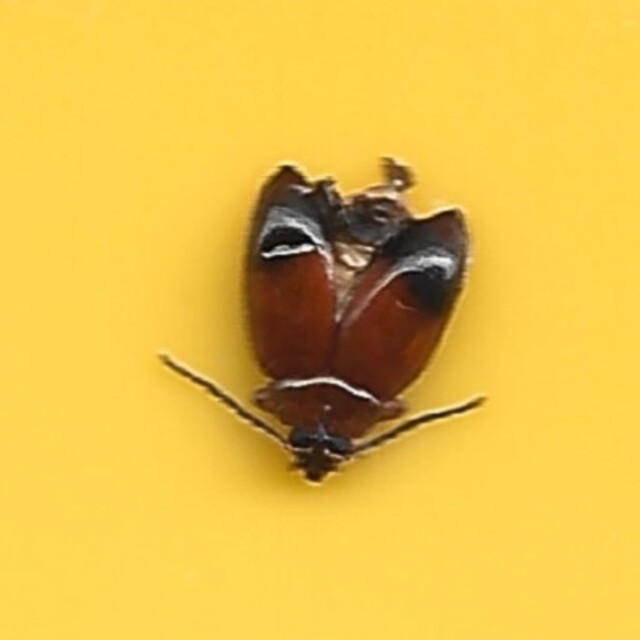Coleoptera: (158, 157, 482, 483)
